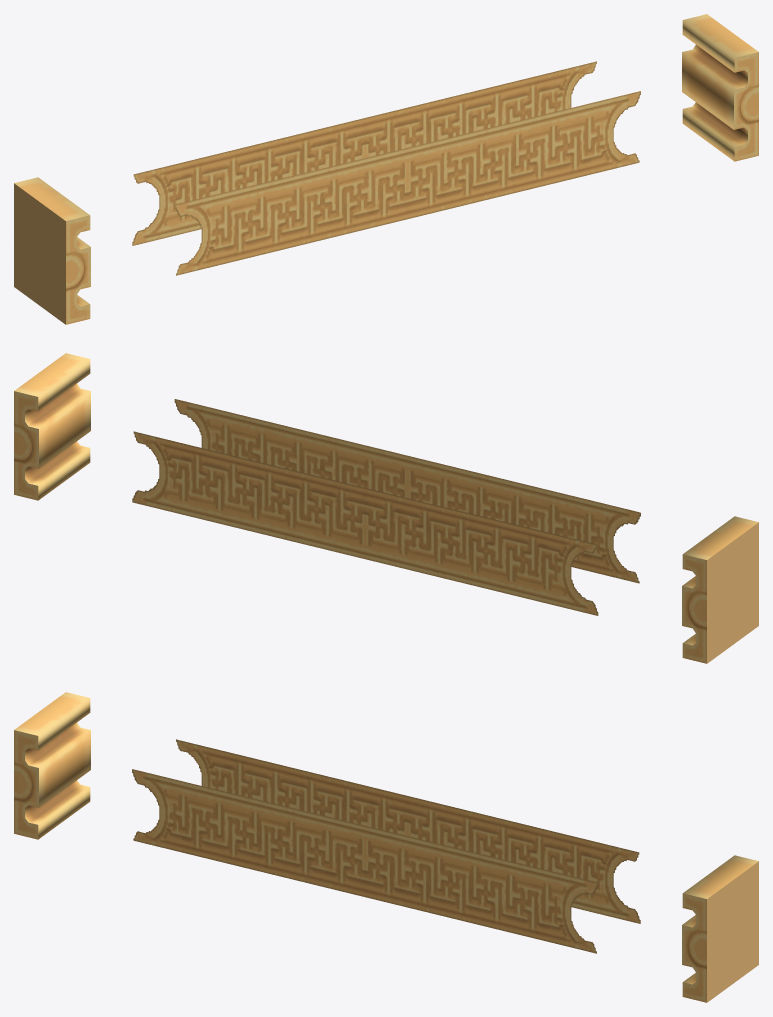
Rendered from mod_zlc_jianzhu053_2_xy.FBX.
3 renders of one model, top to bottom at view 1: azimuth 30°, elevation 25°; view 2: azimuth 150°, elevation 25°; view 3: azimuth 330°, elevation 25°, orthographic.
Visible parts, largest first — view 1: mod_zlc_jianzhu053_2_xy; view 2: mod_zlc_jianzhu053_2_xy; view 3: mod_zlc_jianzhu053_2_xy.
Boxes of the visible parts, x1,y1,x2,y2 form: mod_zlc_jianzhu053_2_xy: (14,14,758,324); mod_zlc_jianzhu053_2_xy: (14,353,758,663); mod_zlc_jianzhu053_2_xy: (14,692,758,1002).
Size of the model in its own units: 11.52 by 1.65 by 1.49.
1 material, 1 textured.
